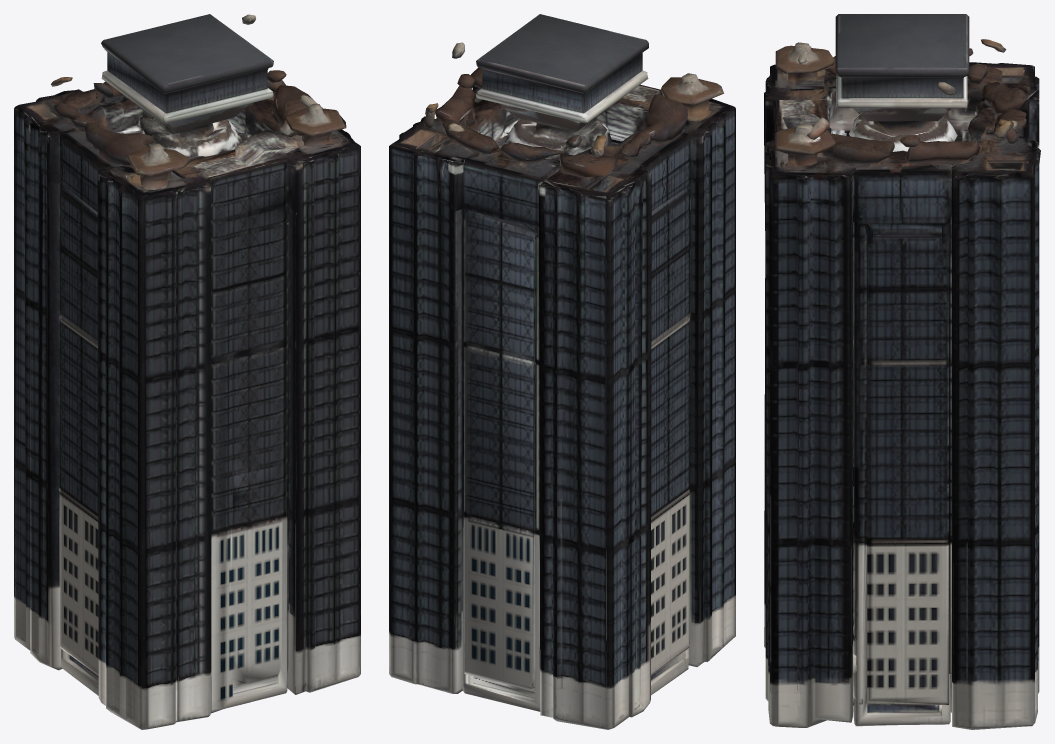
Rendered from skyscraper_medium_1.glb.
The picture shows the model from 3 angles, left to right: view 1: azimuth 30°, elevation 25°; view 2: azimuth 150°, elevation 25°; view 3: azimuth 270°, elevation 25°; orthographic projection. The views are drawn at different scales.
Bounding box in the file's own units: 0.7515 × 1.91 × 0.7554.
1 material, 1 textured.
